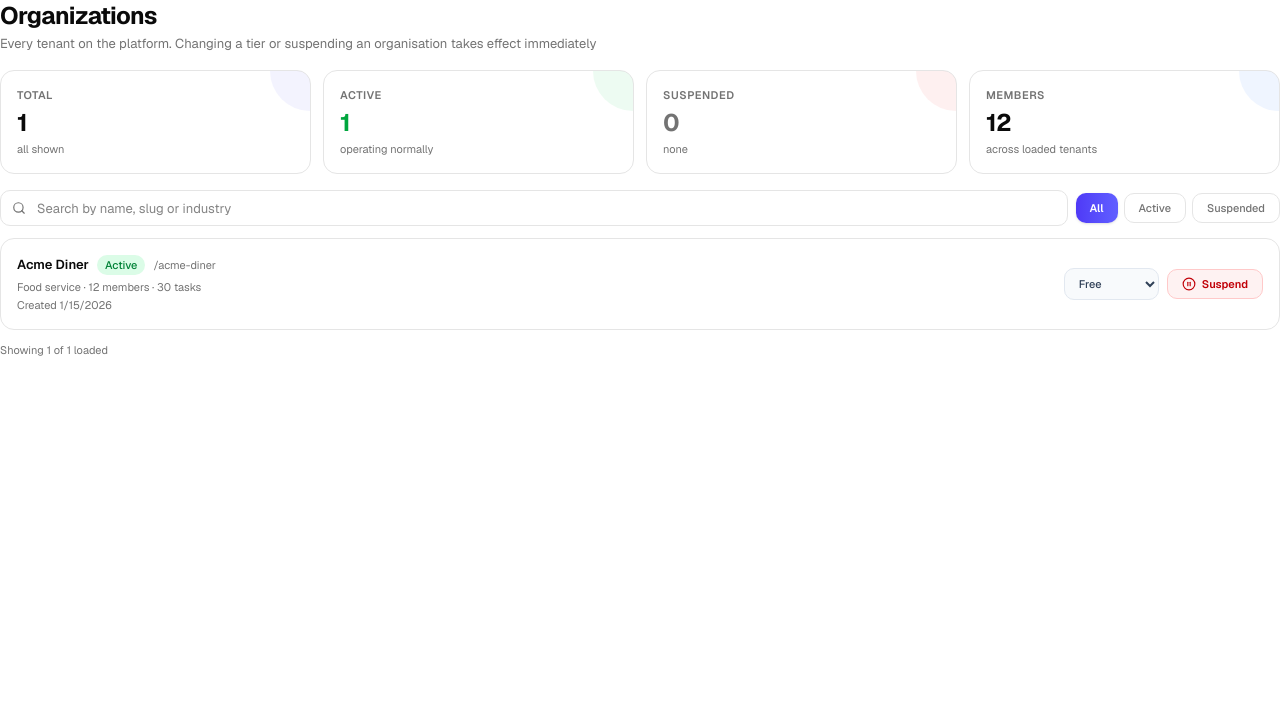
Test case: Organizations › names the number of people the suspension locks out
The image size is (1280, 720).
Step 1. Click the button "Suspend" → coordinates (1215, 284), box [1167,269,1263,299]
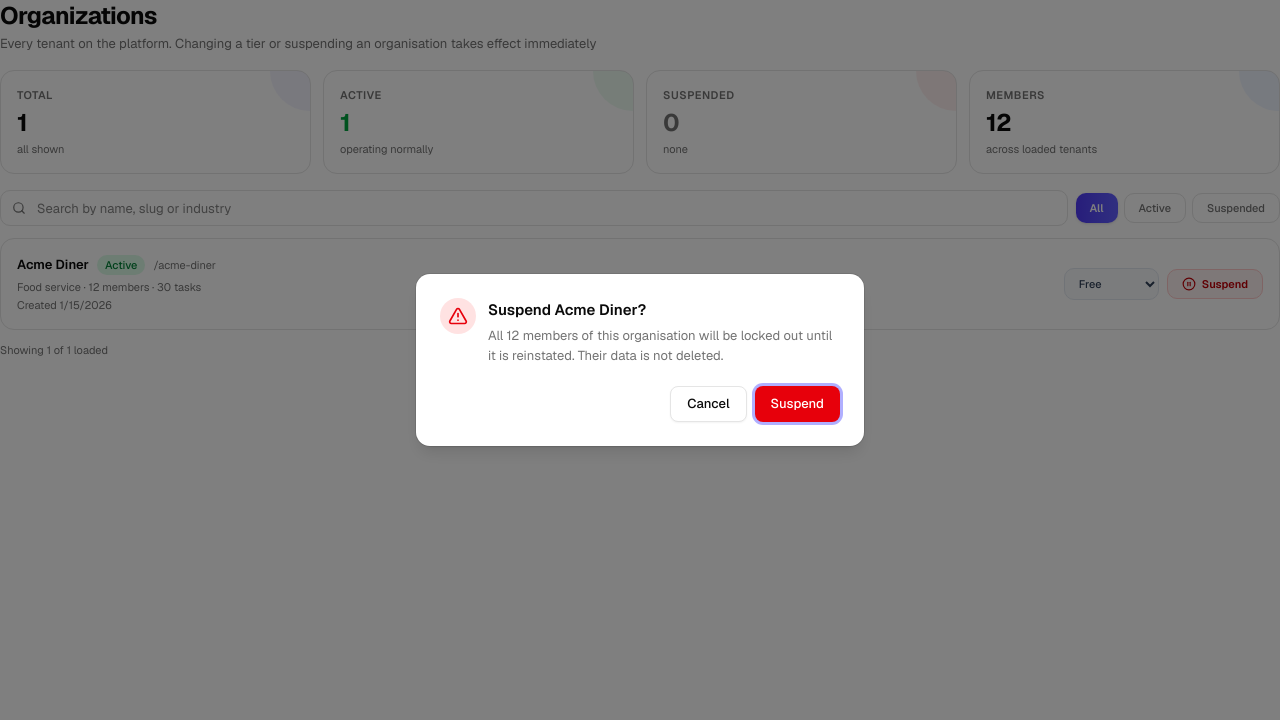
Expected: the text "All 12 members" is shown, [488,327,832,364]
